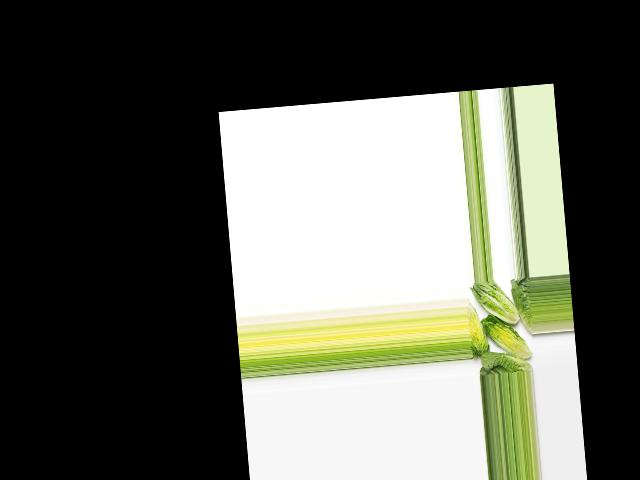lettuce: (477, 346, 531, 376)
